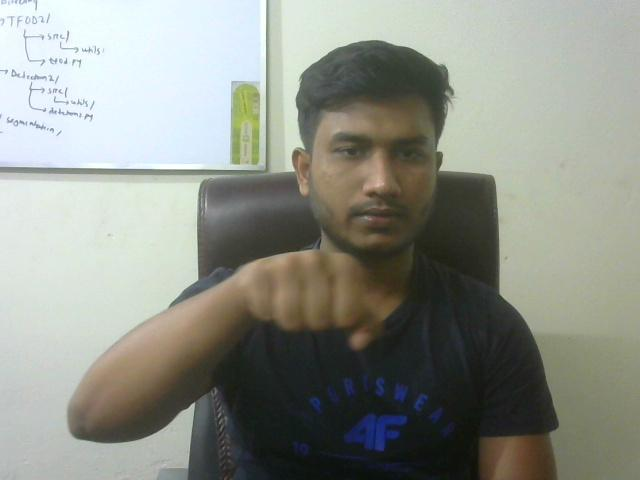Yes: (218, 238, 387, 361)
